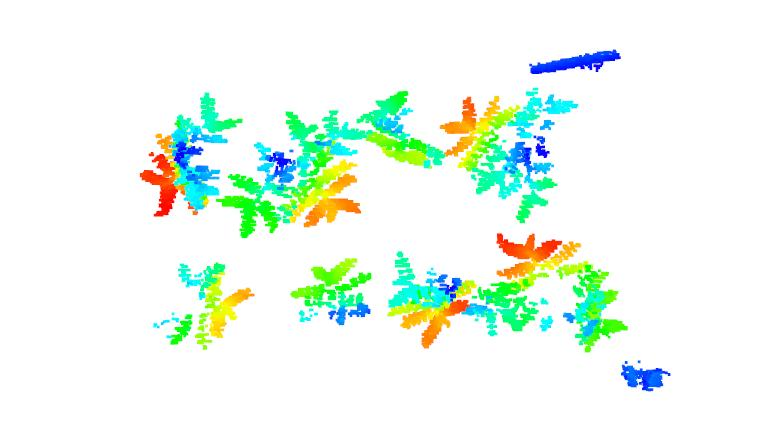chickpea: (218, 107, 363, 237), (443, 88, 580, 224), (481, 233, 628, 350), (137, 91, 244, 219), (384, 253, 496, 349), (147, 263, 256, 349), (352, 86, 445, 171), (290, 256, 372, 327)
